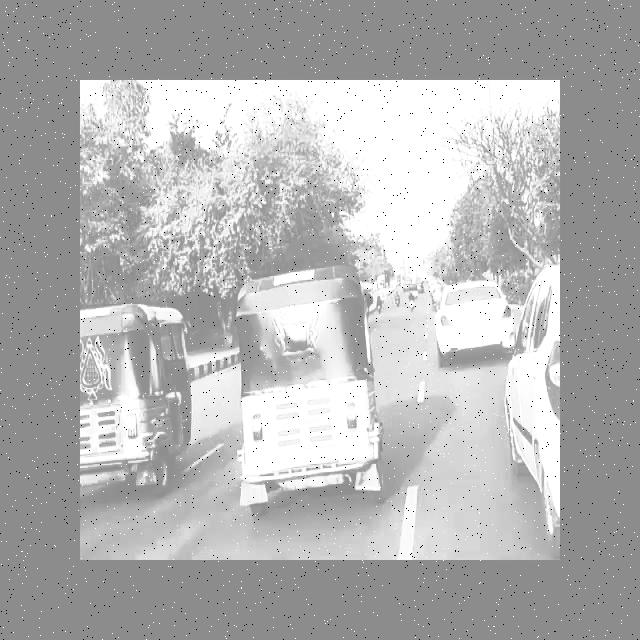Auto-Rickshaw: (232, 257, 395, 513), (85, 293, 202, 500)
Car: (510, 264, 562, 542), (431, 275, 518, 363)
